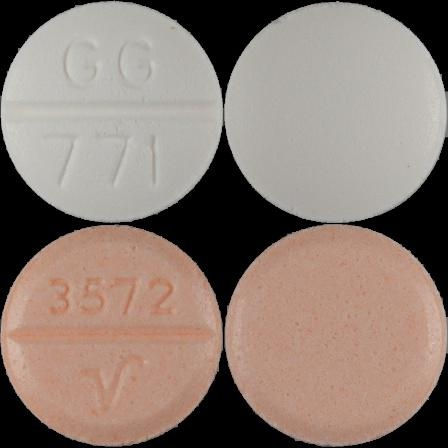68788-9918: (0, 0, 224, 224)
